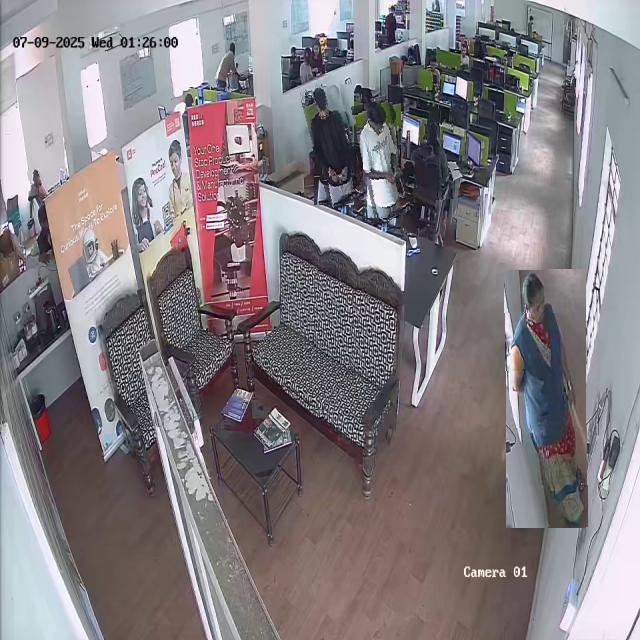person: (505, 270, 587, 528), (307, 82, 361, 206), (357, 101, 407, 219), (420, 123, 453, 200), (215, 40, 236, 91), (28, 169, 48, 198)
